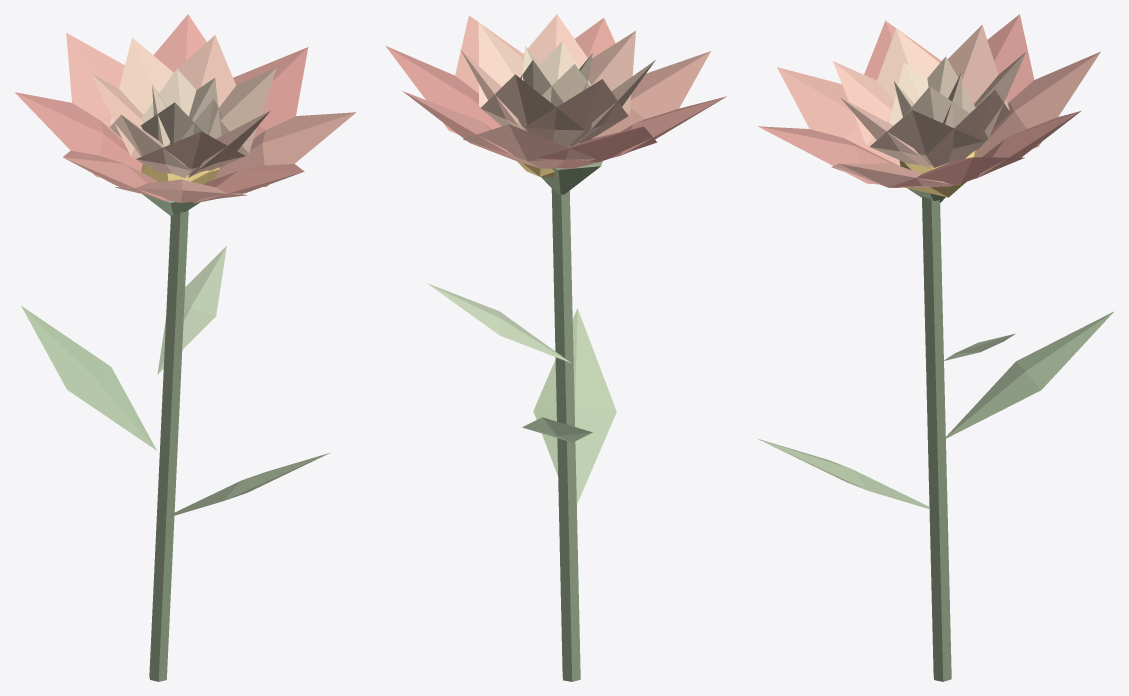
The model's file is flower.glb.
3 renders of one model, left to right at view 1: azimuth 30°, elevation 25°; view 2: azimuth 150°, elevation 25°; view 3: azimuth 270°, elevation 25°, orthographic. The views are drawn at different scales.
Parts seen in each view (by area): view 1: stem_0, leaf_1, petal_1.5_1, petal_1.5_5, petal_1.5_4, petal_1.5_2, leaf_2, petal_1.15_3, petal_1.15_1, petal_1.15_6, petal_1.15_2, petal_1.5_0 (+12 smaller); view 2: stem_0, leaf_0, petal_1.5_7, petal_1.5_2, petal_1.15_3, petal_1.15_4, petal_1.5_4, petal_1.5_5, leaf_2, petal_1.15_6, petal_1.15_1, petal_1.5_3 (+11 smaller); view 3: stem_0, leaf_1, petal_1.5_4, petal_1.5_7, petal_1.15_1, petal_1.5_0, petal_1.15_4, petal_1.15_6, petal_1.5_5, petal_1.15_5, petal_1.15_2, leaf_0 (+10 smaller).
Part boxes in pixels (x1,y1,x2,y2): stem_0: [149, 210, 188, 681]; leaf_1: [21, 306, 156, 450]; petal_1.5_1: [214, 112, 355, 186]; petal_1.5_5: [14, 92, 142, 177]; petal_1.5_4: [66, 33, 124, 140]; petal_1.5_2: [233, 47, 308, 138]; leaf_2: [157, 246, 226, 374]; petal_1.15_3: [110, 37, 173, 125]; petal_1.15_1: [219, 67, 276, 155]; petal_1.15_6: [136, 131, 245, 175]; petal_1.15_2: [173, 35, 235, 107]; petal_1.5_0: [192, 164, 304, 203]; stem_0: [551, 188, 580, 681]; leaf_0: [533, 308, 616, 504]; petal_1.5_7: [591, 51, 710, 139]; petal_1.5_2: [386, 46, 502, 134]; petal_1.15_3: [480, 74, 584, 147]; petal_1.15_4: [524, 79, 627, 145]; petal_1.5_4: [463, 124, 595, 168]; petal_1.5_5: [537, 126, 657, 168]; leaf_2: [427, 283, 571, 363]; petal_1.15_6: [588, 31, 635, 115]; petal_1.15_1: [478, 22, 523, 107]; petal_1.5_3: [402, 91, 526, 164]; stem_0: [922, 196, 951, 681]; leaf_1: [946, 311, 1113, 438]; petal_1.5_4: [976, 51, 1100, 157]; petal_1.5_7: [777, 67, 900, 165]; petal_1.15_1: [869, 110, 983, 165]; petal_1.5_0: [758, 126, 896, 184]; petal_1.15_4: [947, 25, 1009, 110]; petal_1.15_6: [833, 61, 894, 146]; petal_1.5_5: [987, 14, 1034, 103]; petal_1.15_5: [877, 28, 939, 99]; petal_1.15_2: [926, 90, 1009, 167]; leaf_0: [757, 438, 930, 509].
Size of the model in its own units: 2.38 by 4.8 by 2.46.
